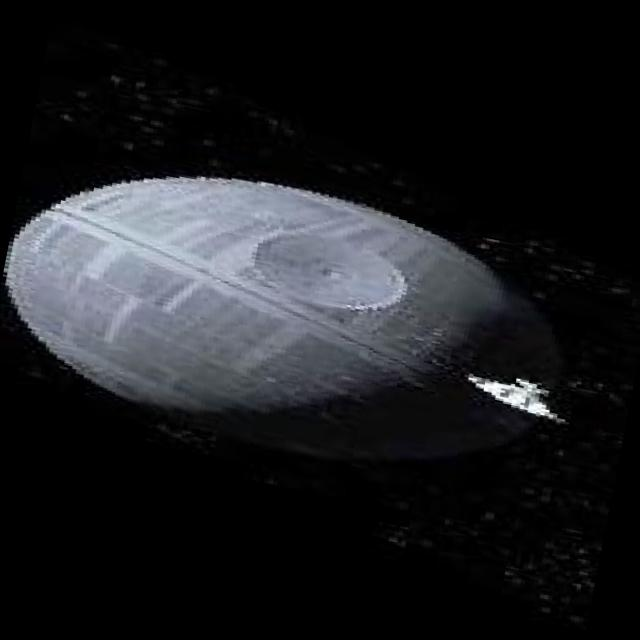Death Star: (0, 129, 608, 508)
